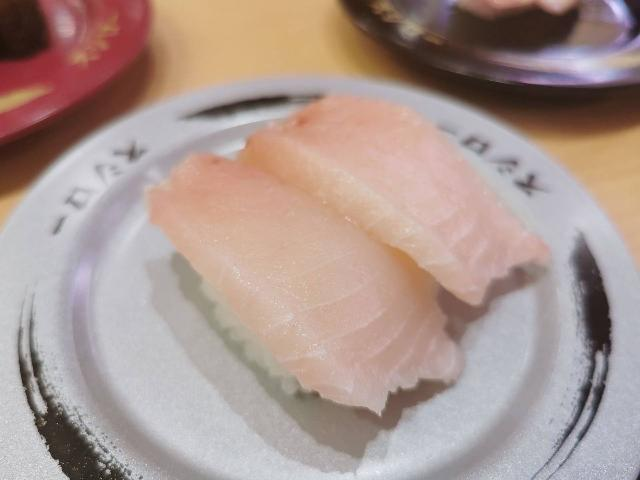janback: (336, 0, 640, 105)
janwhite: (0, 175, 172, 480), (169, 400, 517, 480), (517, 288, 640, 480), (529, 117, 640, 292)
